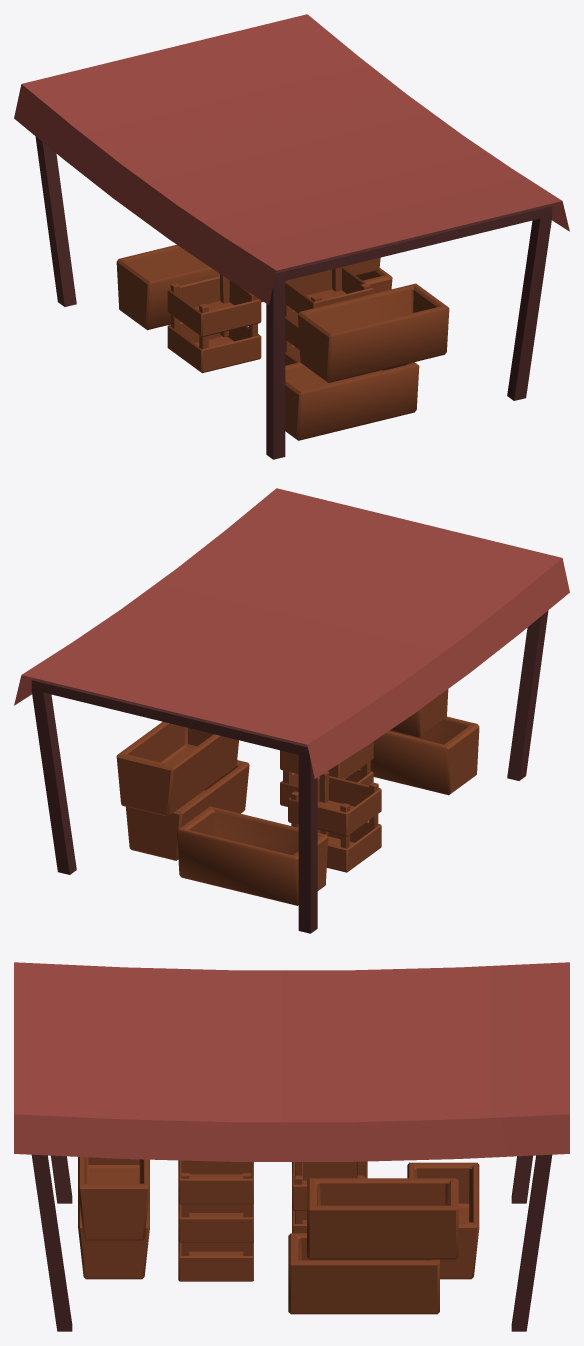
File: Stall1.fbx
The picture shows the model from 3 angles, top to bottom: view 1: azimuth 30°, elevation 25°; view 2: azimuth 150°, elevation 25°; view 3: azimuth 270°, elevation 25°; orthographic projection. The views are drawn at different scales.
Parts seen in each view (by area): view 1: Plane.007; view 2: Plane.007; view 3: Plane.007.
Boxes of the visible parts, <box> form: Plane.007: <box>14,14,569,459</box>; Plane.007: <box>14,488,569,933</box>; Plane.007: <box>14,962,569,1331</box>.
Size of the model in its own units: 480 by 320 by 705.
